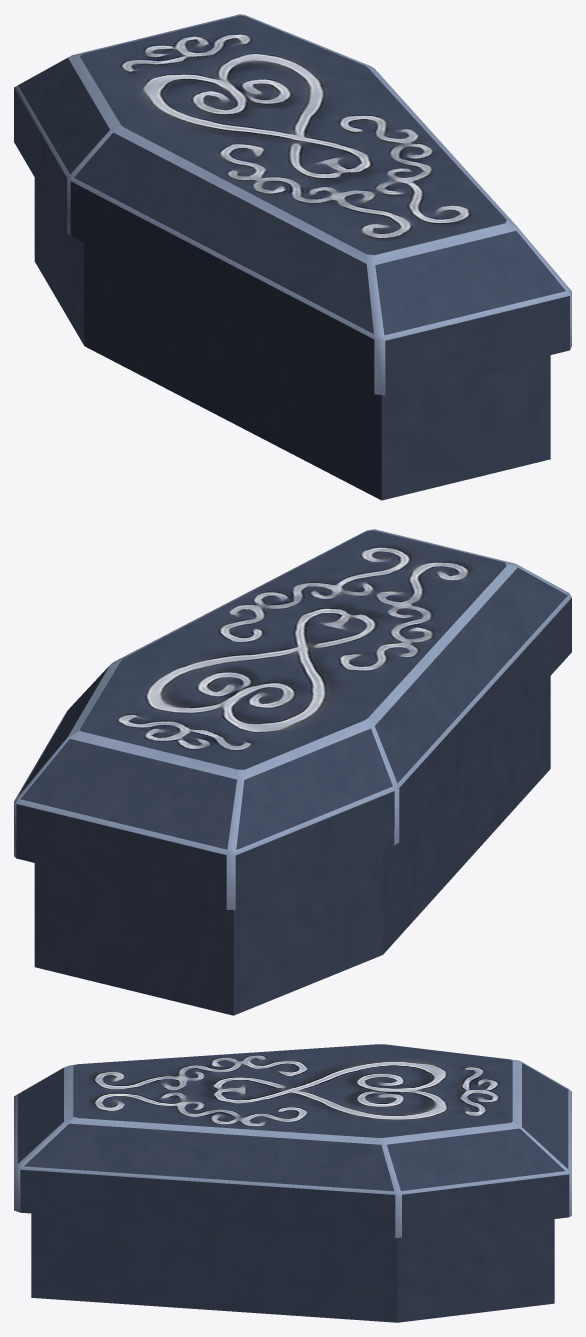
Rendered from Coffin- transversely_HD.fbx.
3 renders of one model, top to bottom at view 1: azimuth 30°, elevation 25°; view 2: azimuth 150°, elevation 25°; view 3: azimuth 270°, elevation 25°, orthographic. The views are drawn at different scales.
Parts seen in each view (by area): view 1: coffin_lid, coffin00; view 2: coffin_lid, coffin00; view 3: coffin_lid, coffin00.
Boxes of the visible parts, x1=… form: coffin_lid: x1=14, y1=14, x2=571, y2=395; coffin00: x1=34, y1=178, x2=550, y2=500; coffin_lid: x1=14, y1=529, x2=571, y2=910; coffin00: x1=34, y1=676, x2=550, y2=1015; coffin_lid: x1=14, y1=1044, x2=571, y2=1237; coffin00: x1=31, y1=1213, x2=554, y2=1322.
Size of the model in its own units: 0.9858 by 0.6344 by 1.84.
